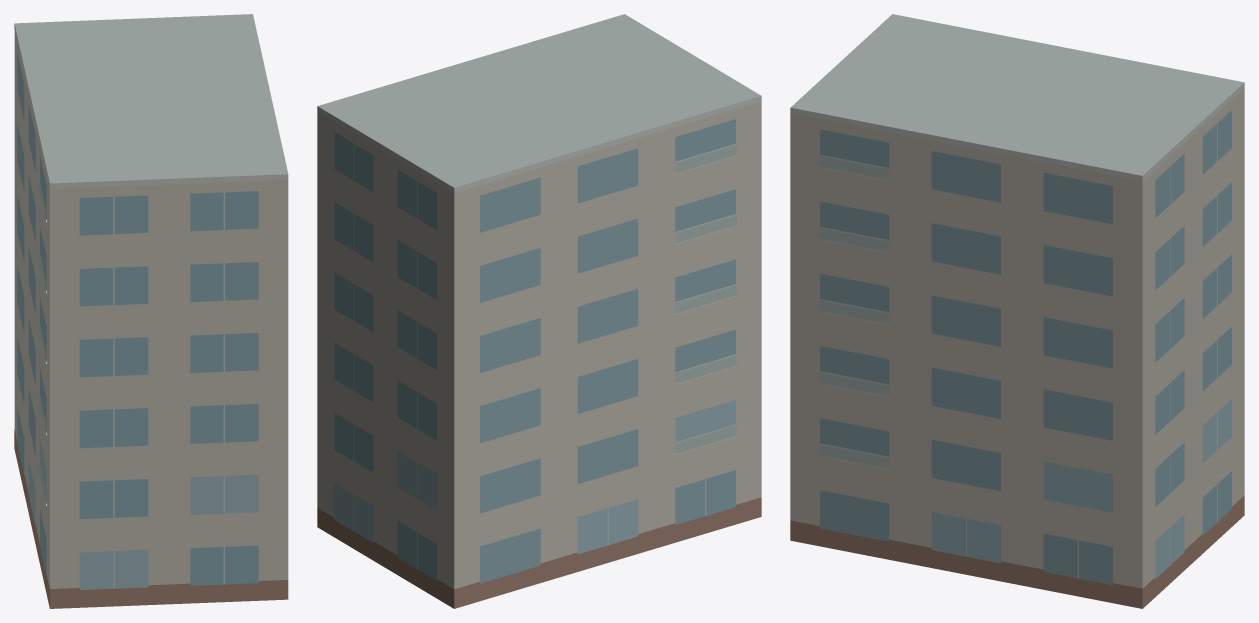
The model's file is survey-upis-32532590.glb.
The picture shows the model from 3 angles, left to right: view 1: azimuth 30°, elevation 25°; view 2: azimuth 150°, elevation 25°; view 3: azimuth 270°, elevation 25°; orthographic projection. The views are drawn at different scales.
Visible parts, largest first — view 1: survey-upis-32532590.tmp; view 2: survey-upis-32532590.tmp; view 3: survey-upis-32532590.tmp.
Boxes of the visible parts, x1,y1,x2,y2 form: survey-upis-32532590.tmp: [14, 14, 288, 608]; survey-upis-32532590.tmp: [317, 14, 761, 608]; survey-upis-32532590.tmp: [790, 14, 1244, 608].
Size of the model in its own units: 14.92 by 18.6 by 17.69.
